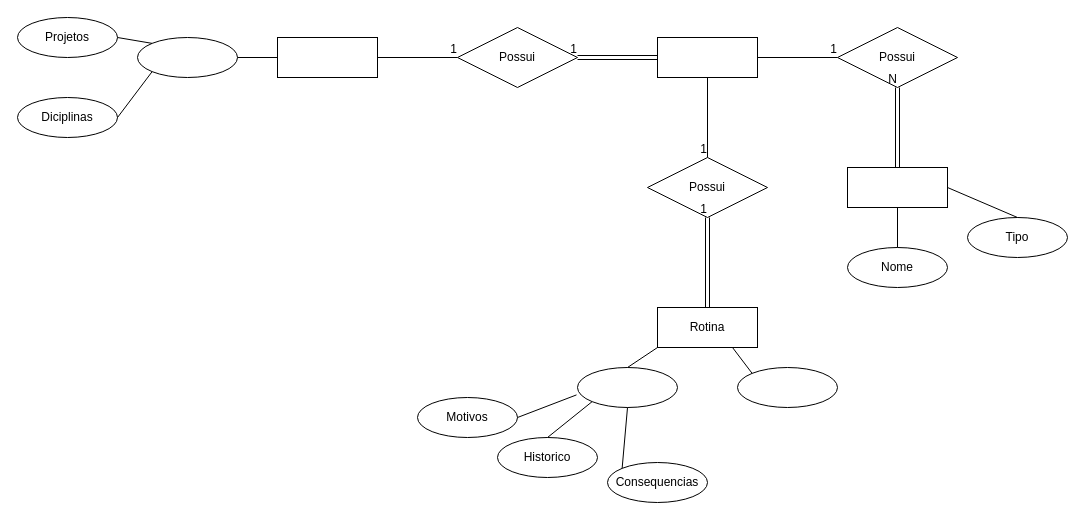
The diagram is 1085 pixels wide and 520 high, and some of its shapes have lost their labels. The shapes that lost their labels are listed below. From the top down, each one's centre as x and y in pixels, then its label:
At [187,57]: "Objetivos".
At [327,57]: "Aluno".
At [707,57]: "Grade".
At [897,187]: "Compromissos".
At [627,387]: "Imprevistos".
At [787,387]: "Habitos Previstos".
